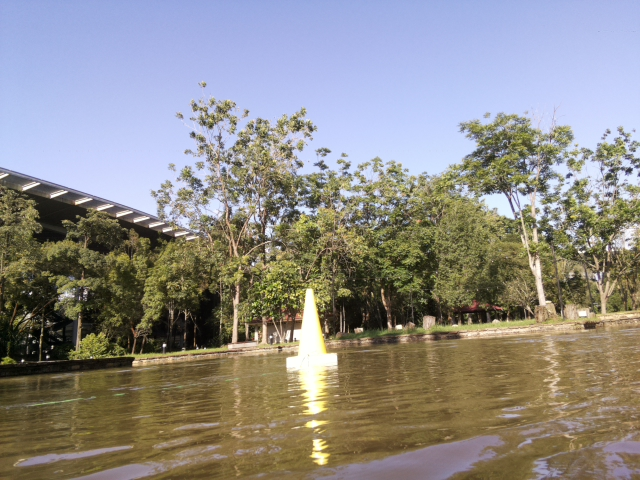checkpoint: (286, 290, 339, 370)
